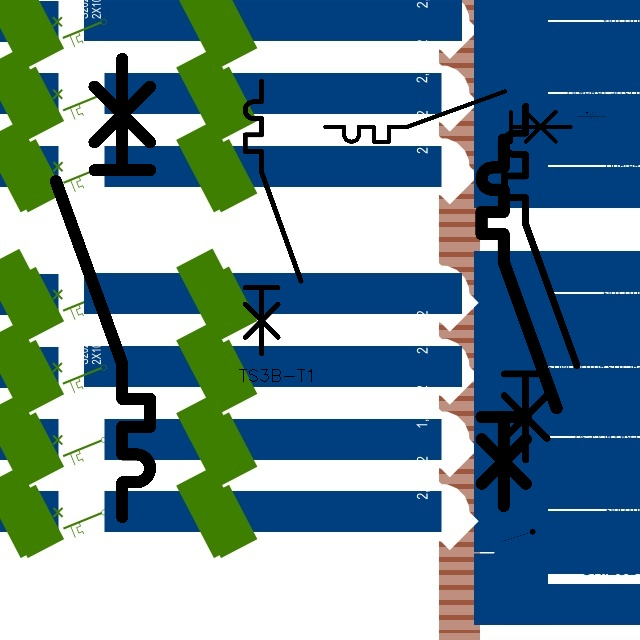interruptor_termomagnetico: (44, 47, 162, 529), (472, 130, 566, 515), (495, 97, 586, 469), (238, 74, 308, 361), (319, 85, 576, 148)
